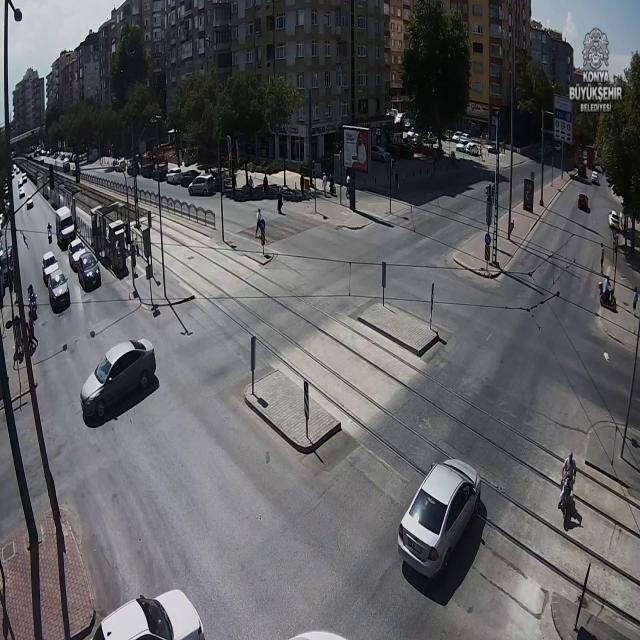Car: (394, 455, 492, 580), (78, 336, 156, 424), (75, 251, 104, 296), (46, 270, 73, 314), (42, 250, 60, 290), (67, 239, 88, 271), (606, 209, 619, 231), (578, 190, 590, 213), (590, 169, 600, 184)
Cycle: (45, 220, 54, 246)
Truck: (54, 205, 75, 246)
Van: (187, 176, 216, 197)
